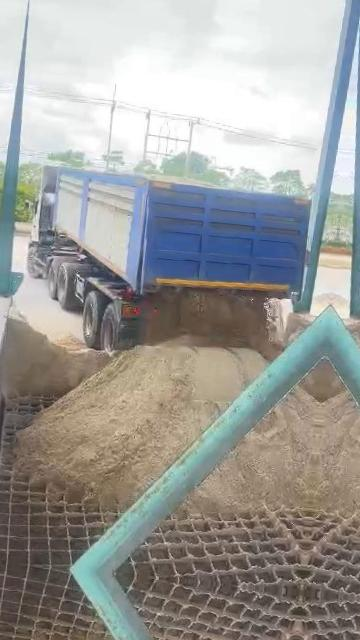sand: (17, 344, 264, 506), (187, 388, 320, 512), (1, 312, 108, 396), (143, 288, 268, 353), (263, 298, 292, 359), (145, 172, 223, 187), (302, 358, 326, 402), (287, 315, 315, 343)
